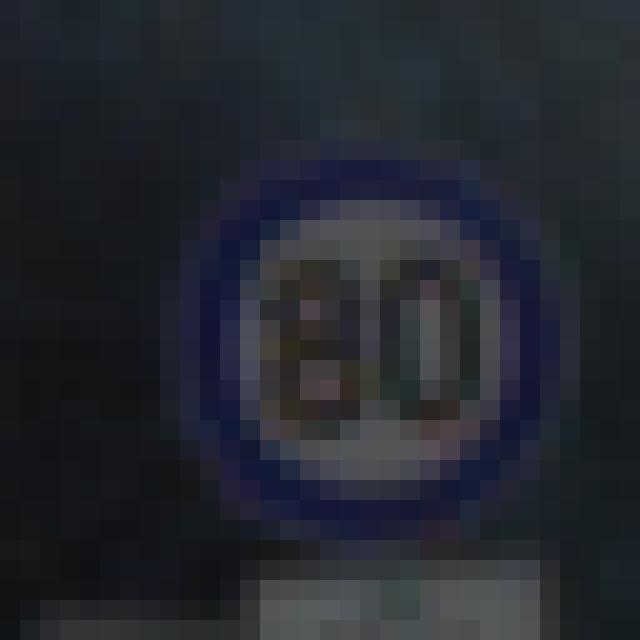SPEED-LIMIT-80: (152, 161, 536, 524)
